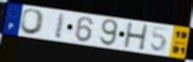5: (149, 25, 170, 54)
6: (73, 16, 95, 43)
9: (98, 19, 120, 47)
H: (123, 22, 150, 52)
I: (54, 11, 67, 40)
O: (17, 8, 46, 37)
